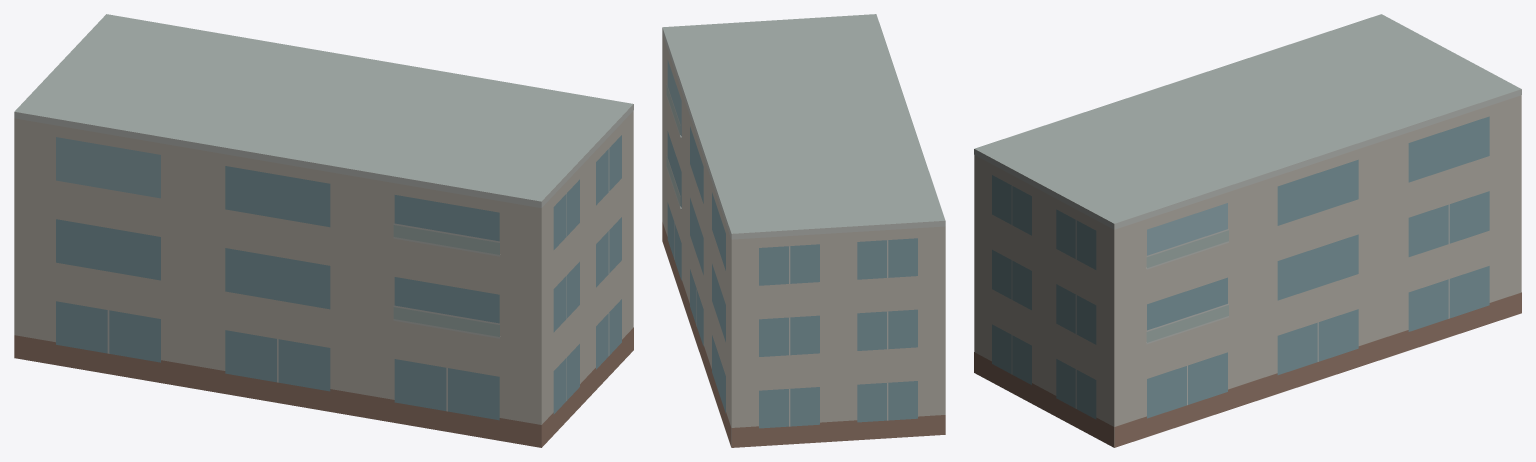
The model's file is survey-upis-32807237.glb.
The picture shows the model from 3 angles, left to right: view 1: azimuth 30°, elevation 25°; view 2: azimuth 150°, elevation 25°; view 3: azimuth 270°, elevation 25°; orthographic projection. The views are drawn at different scales.
Visible parts, largest first — view 1: survey-upis-32807237.tmp; view 2: survey-upis-32807237.tmp; view 3: survey-upis-32807237.tmp.
Part boxes in pixels (x1,y1,x2,y2): survey-upis-32807237.tmp: [14, 14, 633, 447]; survey-upis-32807237.tmp: [662, 14, 945, 447]; survey-upis-32807237.tmp: [974, 14, 1521, 447].
Bounding box in the file's own units: 18.38 × 9.15 × 20.28.
